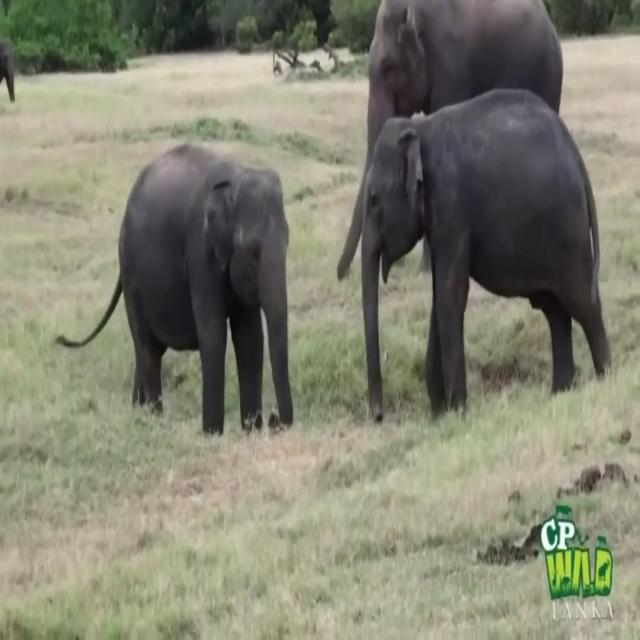Elephant: (352, 86, 612, 424), (55, 140, 293, 437), (336, 0, 563, 284), (0, 36, 15, 102)
